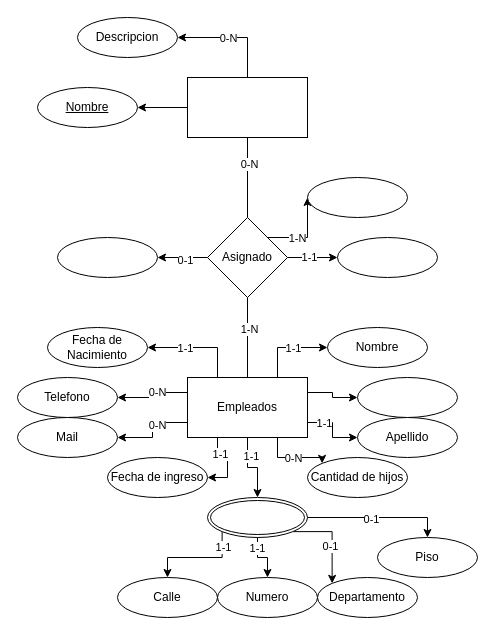
Image size: 495x635. Some labels were removed from this diagram. The centre of each missing label's shape, as x and y in pixels:
Areas: (x=247, y=107)
Direccion: (x=257, y=517)
DNI: (x=407, y=397)
Fecha fin: (x=107, y=257)
Fecha inicio: (x=387, y=257)
Funciones: (x=357, y=197)
